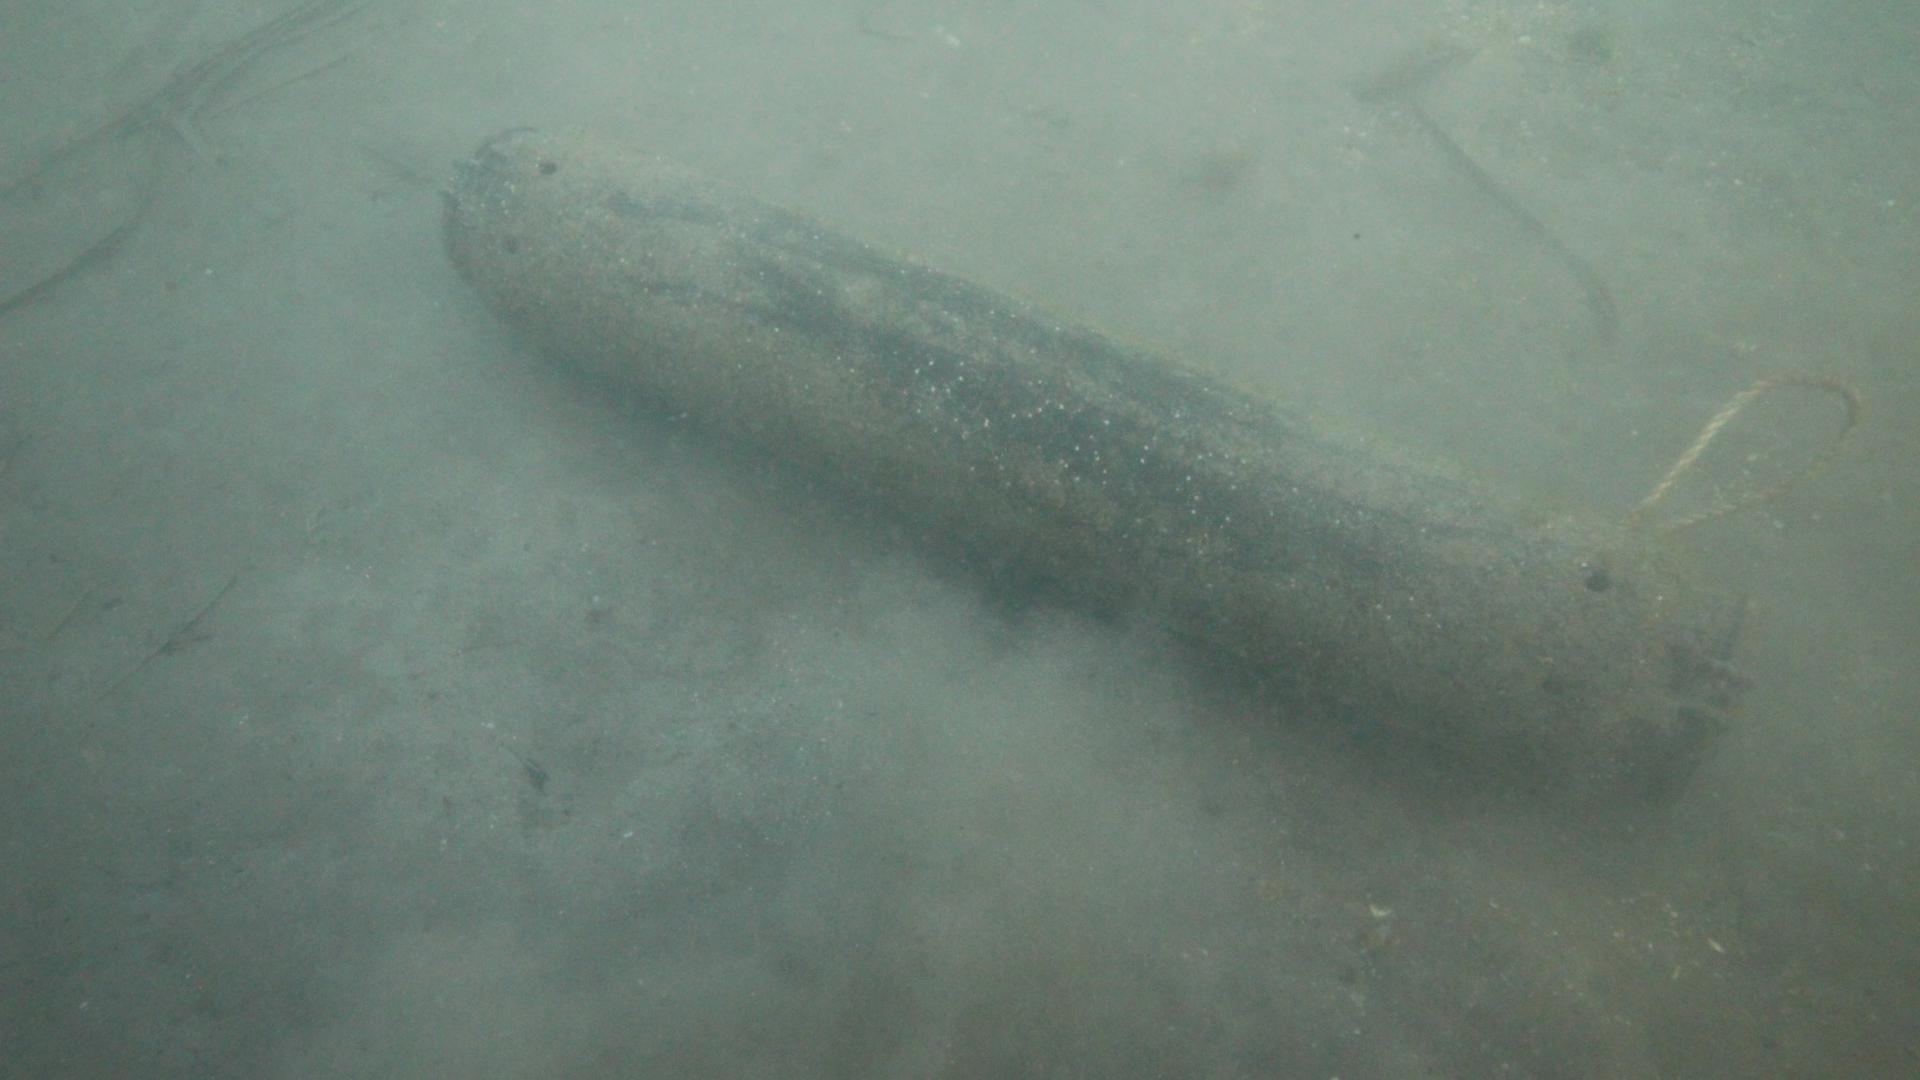eel fish trap: (439, 119, 1746, 811)
rope: (1605, 371, 1865, 550)
